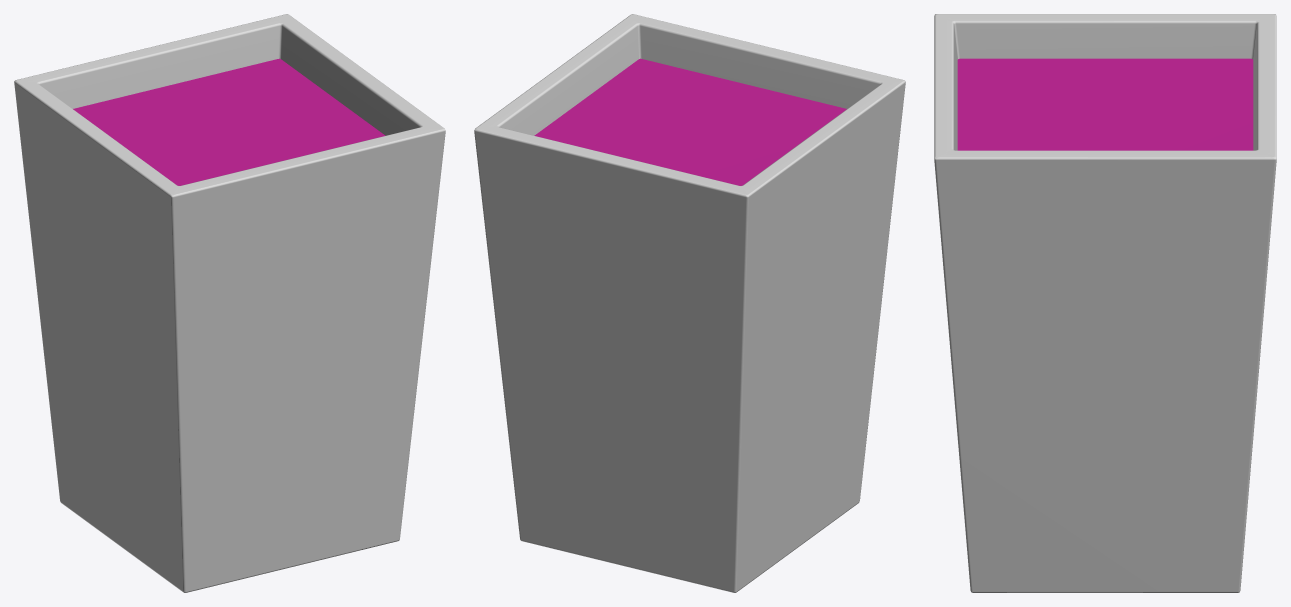
File: Vase_05_Mesh.fbx
3 views of the same model, side by side, from view 1: azimuth 30°, elevation 25°; view 2: azimuth 150°, elevation 25°; view 3: azimuth 270°, elevation 25° (orthographic). The views are drawn at different scales.
Visible parts, largest first — view 1: plantpot_large_01; view 2: plantpot_large_01; view 3: plantpot_large_01.
Boxes of the visible parts, <box> form: plantpot_large_01: <box>14,14,445,592</box>; plantpot_large_01: <box>474,14,905,592</box>; plantpot_large_01: <box>934,14,1276,592</box>.
Bounding box in the file's own units: 52.46 × 76.22 × 52.46.
